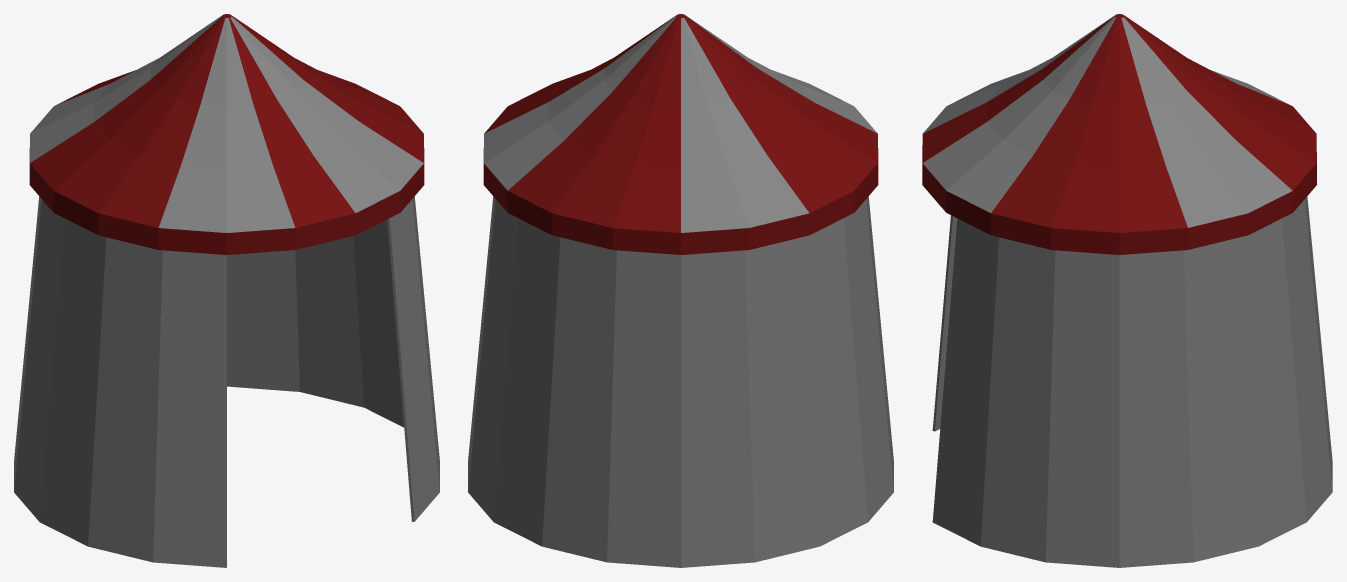
The model's file is SM_tent_siege_01.fbx.
3 renders of one model, left to right at view 1: azimuth 30°, elevation 25°; view 2: azimuth 150°, elevation 25°; view 3: azimuth 270°, elevation 25°, orthographic.
Parts seen in each view (by area): view 1: Cylinder045; view 2: Cylinder045; view 3: Cylinder045.
Part boxes in pixels (x1=…): Cylinder045: x1=14, y1=14, x2=439, y2=567; Cylinder045: x1=468, y1=14, x2=893, y2=567; Cylinder045: x1=922, y1=14, x2=1332, y2=567.
Size of the model in its own units: 116 by 110 by 136.
